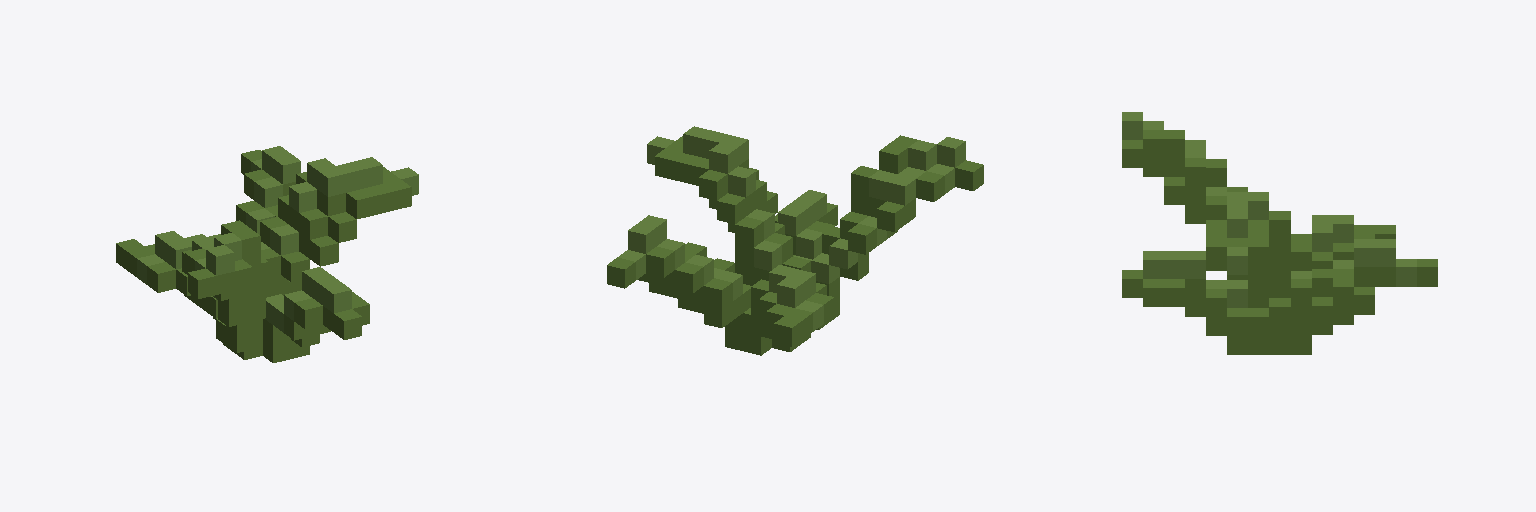
The picture shows the model from 3 angles: view 1: azimuth 30°, elevation 25°; view 2: azimuth 150°, elevation 25°; view 3: azimuth 270°, elevation 25°; orthographic projection.
Visible parts, largest first — view 1: object 1; view 2: object 1; view 3: object 1.
Part boxes in pixels (bbox=[...]): object 1: bbox=[116, 146, 418, 362]; object 1: bbox=[607, 126, 983, 355]; object 1: bbox=[1122, 112, 1437, 354].
Size of the model in its own units: 1.5 by 0.9 by 1.5.
Materials: 1 (1 with a texture image).